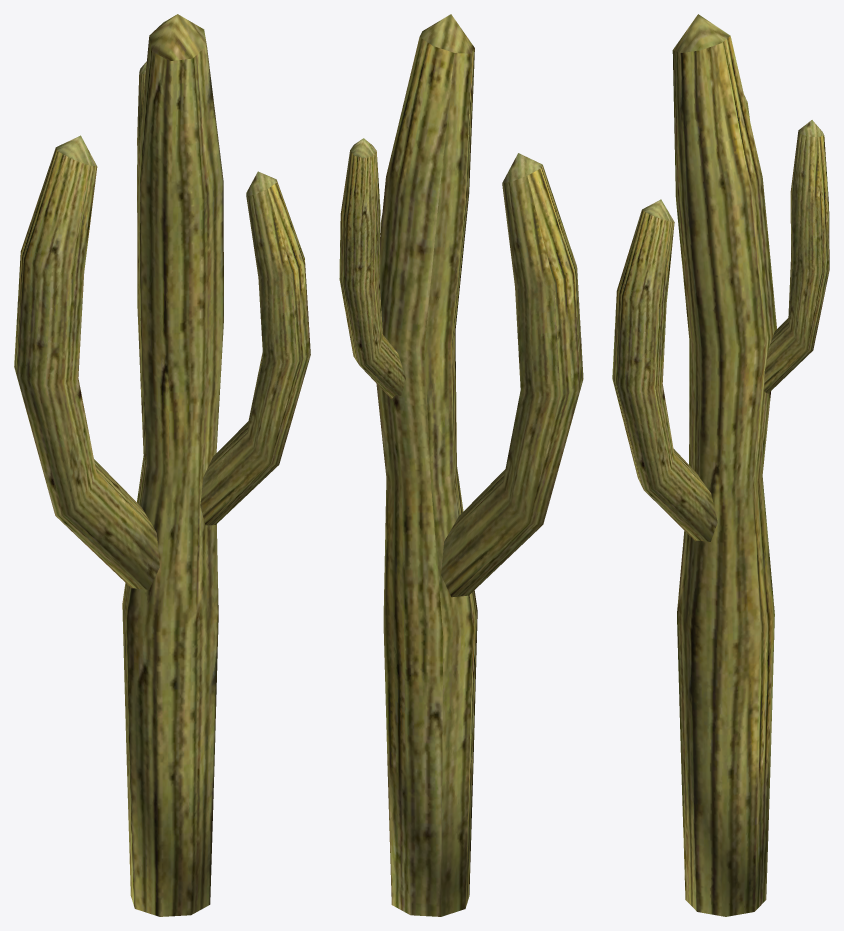
Rendered from KaktusBenny.gltf.
The picture shows the model from 3 angles, left to right: view 1: azimuth 30°, elevation 25°; view 2: azimuth 150°, elevation 25°; view 3: azimuth 270°, elevation 25°; orthographic projection. The views are drawn at different scales.
Parts seen in each view (by area): view 1: Kaktus; view 2: Kaktus; view 3: Kaktus.
Part boxes in pixels (left/top/right/bottom): Kaktus: left=14, top=14, right=310, bottom=916; Kaktus: left=339, top=14, right=583, bottom=916; Kaktus: left=612, top=14, right=829, bottom=916.
Bounding box in the file's own units: 1.23 × 4.28 × 0.9563.
1 material, 1 textured.
